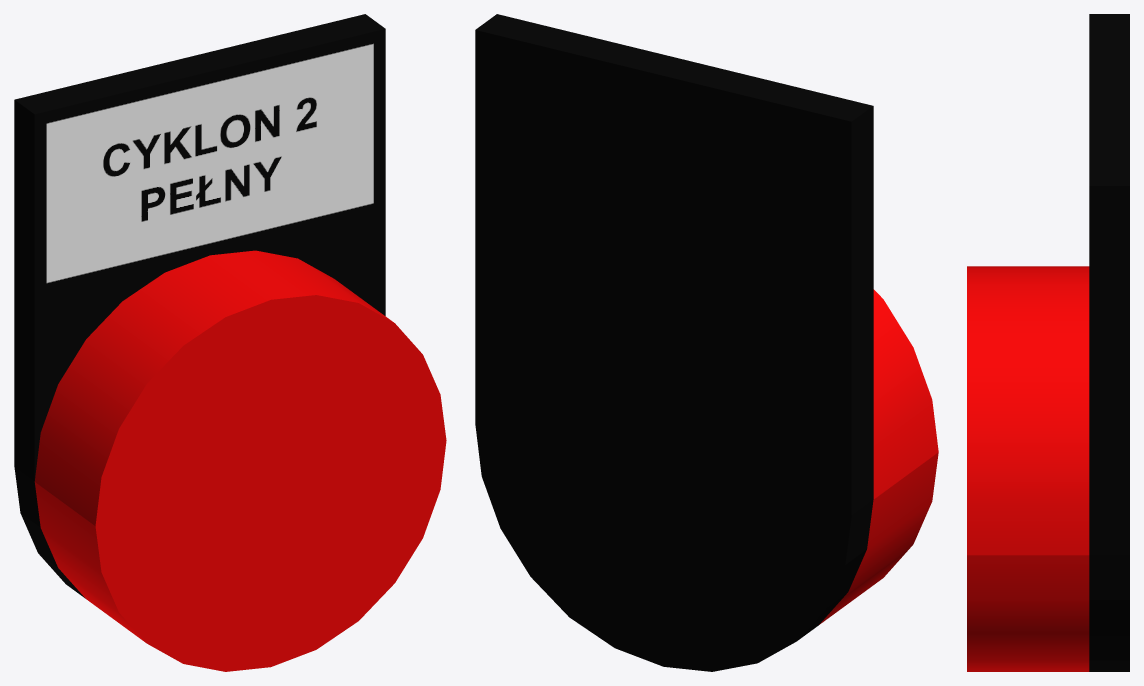
The model's file is cyklon2pełny.fbx.
3 renders of one model, left to right at view 1: azimuth 30°, elevation 25°; view 2: azimuth 150°, elevation 25°; view 3: azimuth 270°, elevation 25°, orthographic. The views are drawn at different scales.
Visible parts, largest first — view 1: Model; view 2: Model; view 3: Model.
Boxes of the visible parts, bbox=[...] form: Model: bbox=[14, 14, 446, 671]; Model: bbox=[475, 14, 938, 671]; Model: bbox=[967, 14, 1129, 671].
Size of the model in its own units: 0.1 by 0.15 by 0.04.
